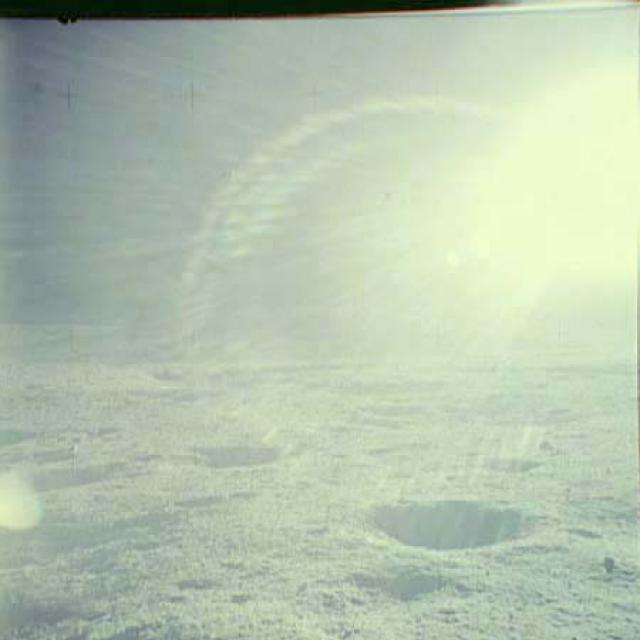crater: (340, 479, 585, 578), (146, 422, 325, 488), (331, 556, 497, 619), (4, 444, 125, 515), (445, 433, 555, 492), (312, 371, 467, 405)
